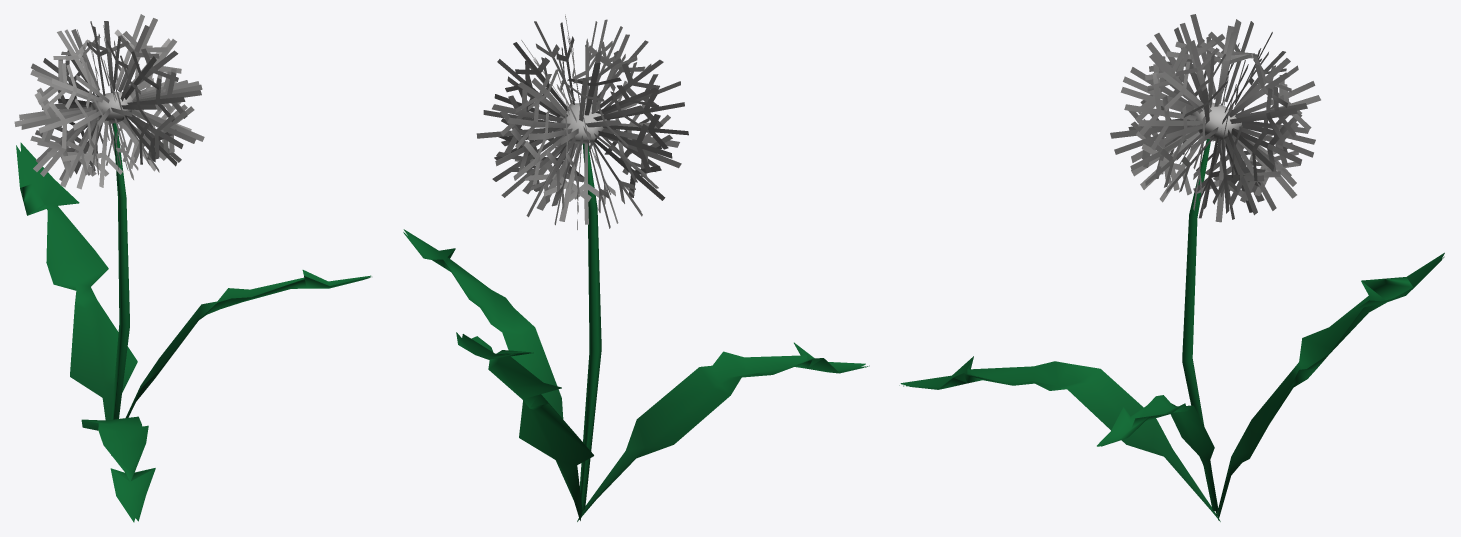
Rendered from dandelion.fbx.
3 renders of one model, left to right at view 1: azimuth 30°, elevation 25°; view 2: azimuth 150°, elevation 25°; view 3: azimuth 270°, elevation 25°, orthographic. The views are drawn at different scales.
Visible parts, largest first — view 1: pCube49; view 2: pCube49; view 3: pCube49.
Boxes of the visible parts, x1,y1,x2,y2 form: pCube49: (14,14,371,522); pCube49: (403,14,869,521); pCube49: (899,14,1444,521).
Bounding box in the file's own units: 662 × 843 × 844.
